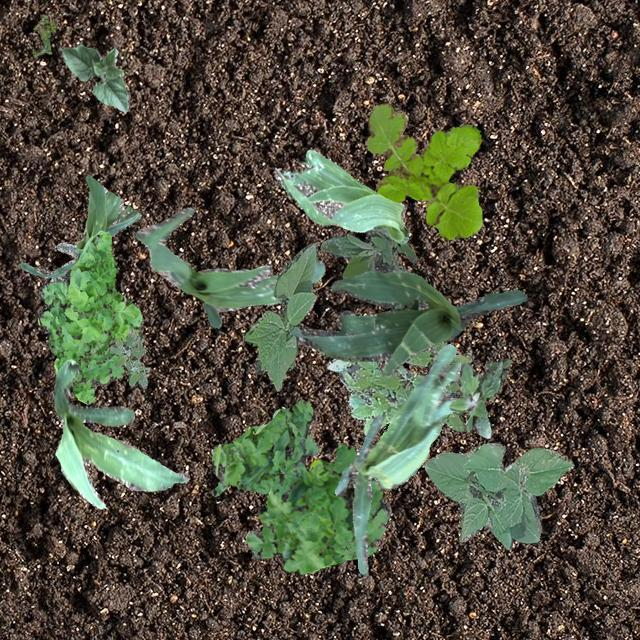crop: (334, 342, 459, 574), (288, 268, 526, 374), (134, 206, 324, 328), (50, 358, 188, 508), (422, 442, 572, 548), (274, 148, 408, 242), (19, 174, 140, 278), (244, 242, 316, 390), (60, 44, 128, 112)
weed: (244, 442, 390, 574), (36, 230, 144, 403), (364, 102, 482, 238), (326, 341, 474, 434), (210, 400, 318, 496), (319, 228, 416, 308), (444, 358, 510, 438), (109, 328, 150, 388), (32, 14, 56, 56)
